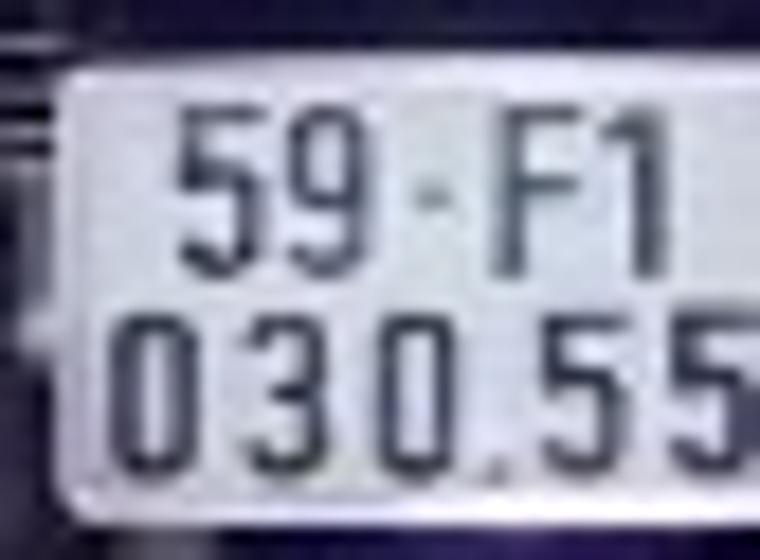-: (412, 188, 452, 207)
.: (487, 465, 505, 485)
0: (103, 311, 199, 479), (372, 315, 456, 477)
1: (603, 101, 670, 275)
3: (246, 309, 329, 473)
5: (175, 100, 261, 275), (670, 311, 760, 472), (543, 315, 627, 474)
9: (286, 103, 369, 276)
F: (495, 104, 577, 275)
